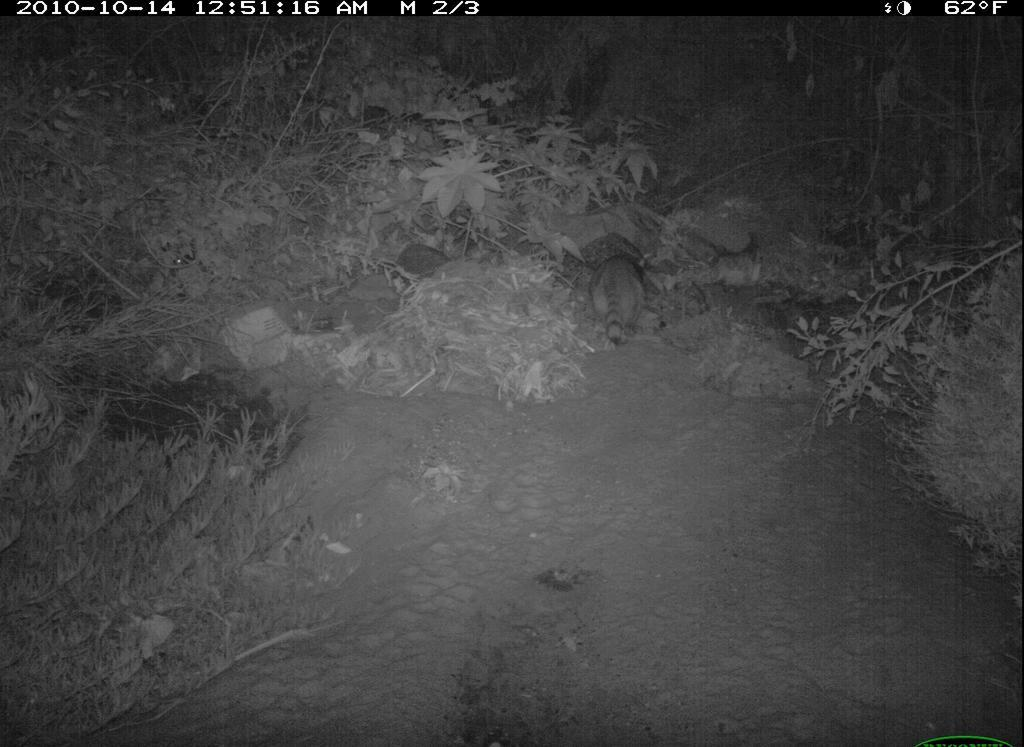raccoon: (583, 239, 656, 365)
